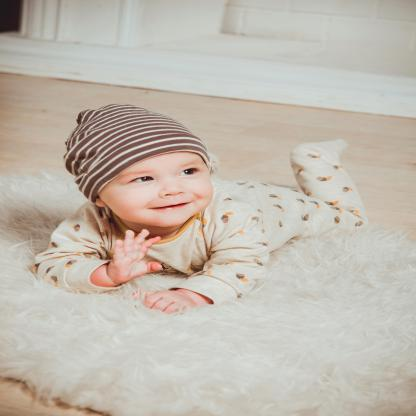Eye: (174, 165, 202, 178), (128, 174, 158, 186)
Mouth: (147, 200, 196, 214)
Nose: (160, 178, 186, 200)
